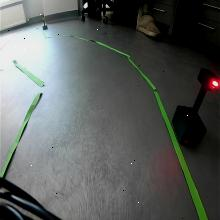red: (197, 67, 220, 92)
